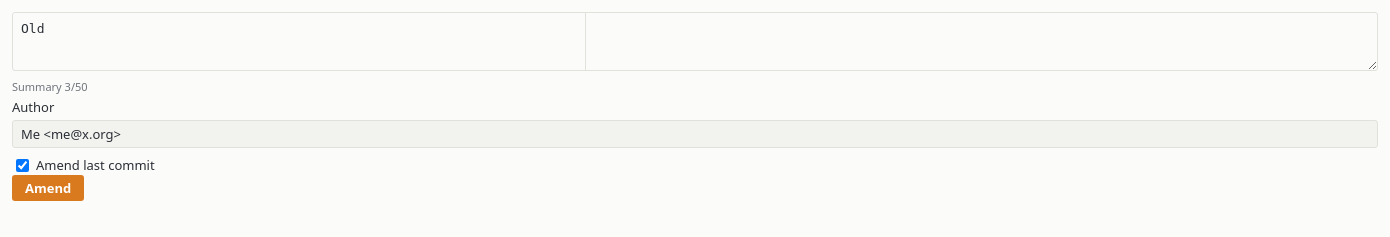
CommitBox showAbort › amend author and co-authors › blocks amend on an unparseable author
Replace the text in the field labelled "Author" with "Ada" at (695, 134), box left=12, top=120, right=1378, bottom=148
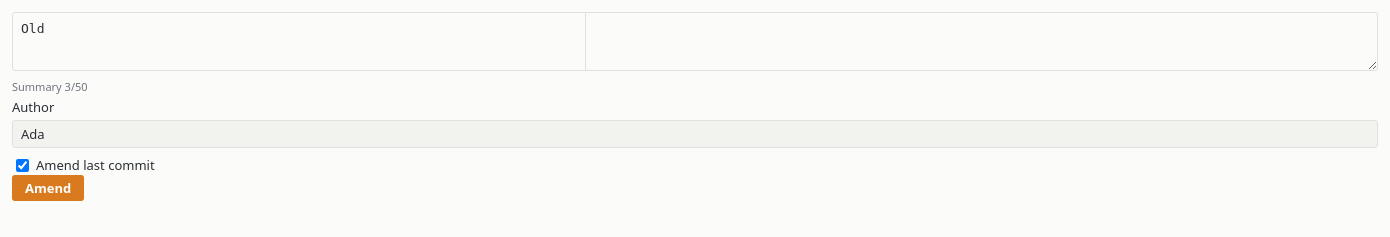
Expected: the text box named "Commit message" holds "Old", left=12, top=12, right=1378, bottom=70
Click the button "Amend" at (48, 188), box left=12, top=174, right=84, bottom=201
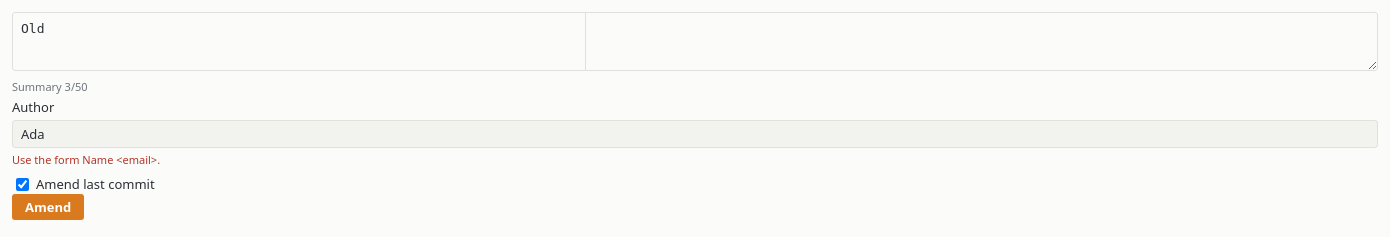
Expected: the text "Use the form Name <email>." is shown, left=12, top=152, right=160, bottom=166
